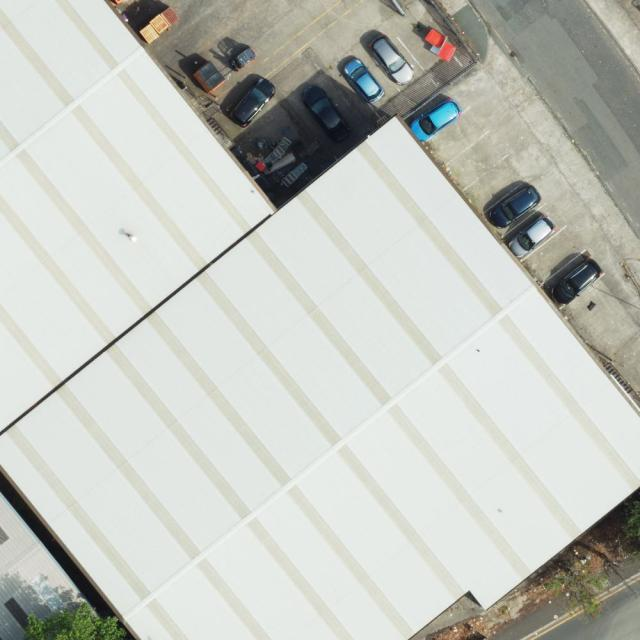roof: (0, 0, 640, 639), (3, 499, 88, 640)
